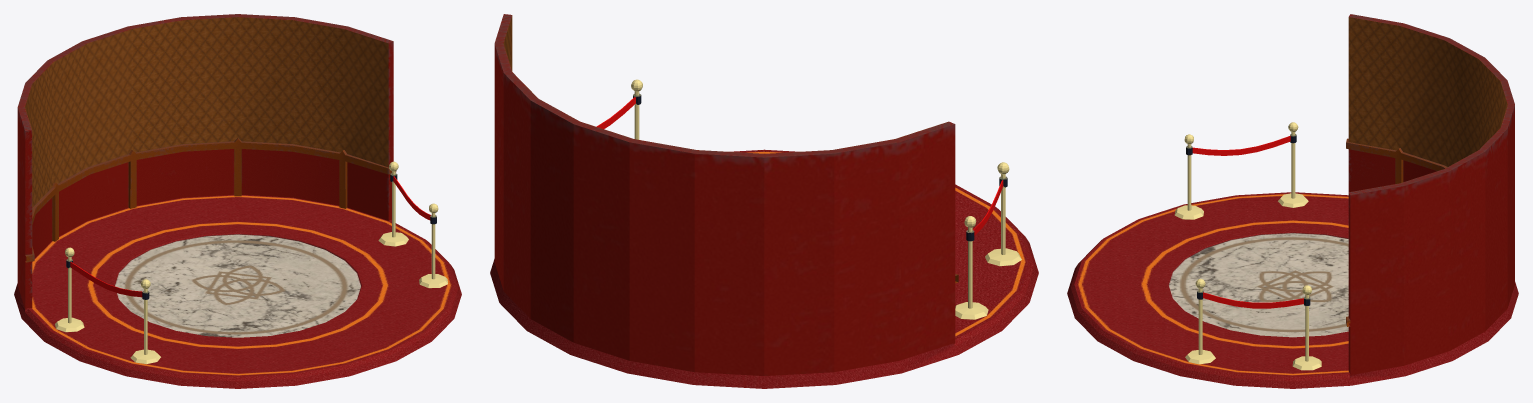
File: retro_style_stage.glb
3 views of the same model, side by side, from view 1: azimuth 30°, elevation 25°; view 2: azimuth 150°, elevation 25°; view 3: azimuth 270°, elevation 25° (orthographic). The views are drawn at different scales.
Visible parts, largest first — view 1: polySurface2, polySurface1, pSphere3, pSphere2, pSphere4, pSphere1, pCube2; view 2: polySurface2, polySurface1, pSphere1, pSphere2; view 3: polySurface2, polySurface1, pSphere2, pSphere1, pSphere3, pSphere4, pCube3, pCube2.
Boxes of the visible parts, box(x1,y1,x2,y2) form: polySurface2: box(17, 14, 396, 309); polySurface1: box(14, 195, 461, 388); pSphere3: box(419, 203, 447, 288); pSphere2: box(130, 279, 160, 364); pSphere4: box(378, 161, 408, 246); pSphere1: box(55, 247, 84, 332); pCube2: box(70, 262, 142, 297); polySurface2: box(494, 14, 958, 375); polySurface1: box(490, 149, 1038, 388); pSphere1: box(955, 216, 988, 319); pSphere2: box(985, 162, 1021, 266); polySurface2: box(1346, 14, 1514, 375); polySurface1: box(1067, 192, 1518, 388); pSphere2: box(1174, 134, 1203, 219); pSphere1: box(1278, 122, 1308, 207); pSphere3: box(1185, 278, 1215, 364); pSphere4: box(1292, 285, 1321, 370); pCube3: box(1203, 292, 1303, 308); pCube2: box(1192, 136, 1290, 155).
Size of the model in its own units: 6.35 by 2.93 by 6.35.
Materials: 1 (1 with a texture image).
